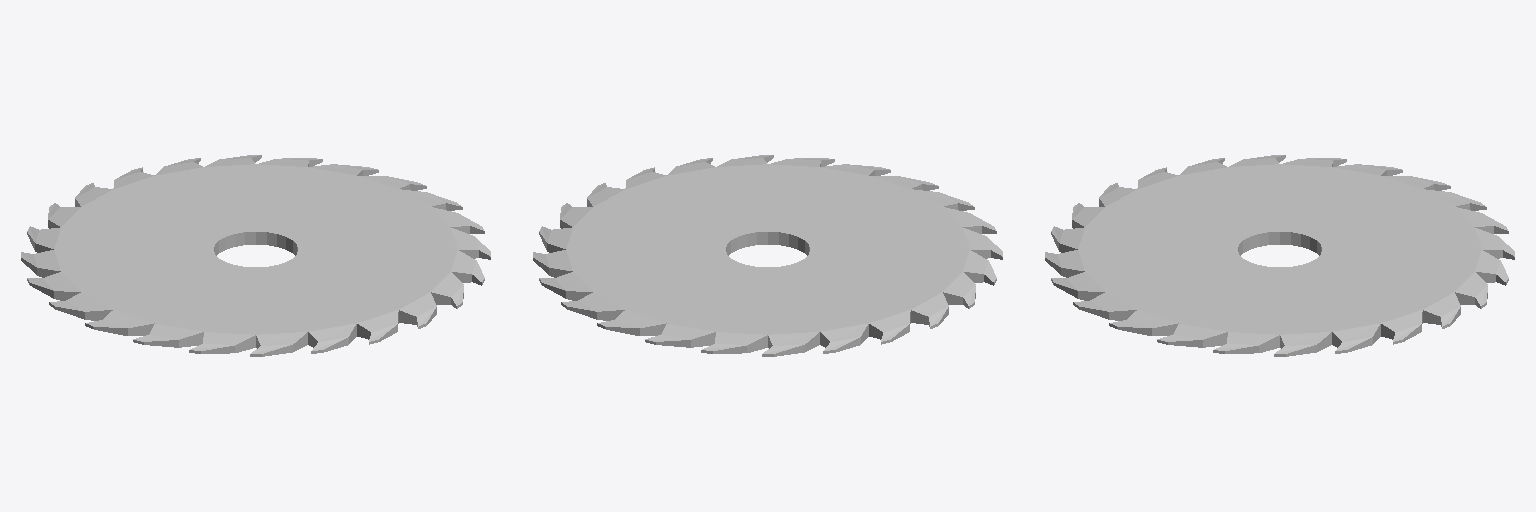
The model's file is SawDisc.obj.
3 renders of one model, left to right at view 1: azimuth 30°, elevation 25°; view 2: azimuth 150°, elevation 25°; view 3: azimuth 270°, elevation 25°, orthographic.
Visible parts, largest first — view 1: Cylinder.001; view 2: Cylinder.001; view 3: Cylinder.001.
Part boxes in pixels (x1,y1,x2,y2): Cylinder.001: (21,155,490,356); Cylinder.001: (533,155,1002,356); Cylinder.001: (1045,155,1514,356).
Size of the model in its own units: 0.9334 by 0.0285 by 0.9334.